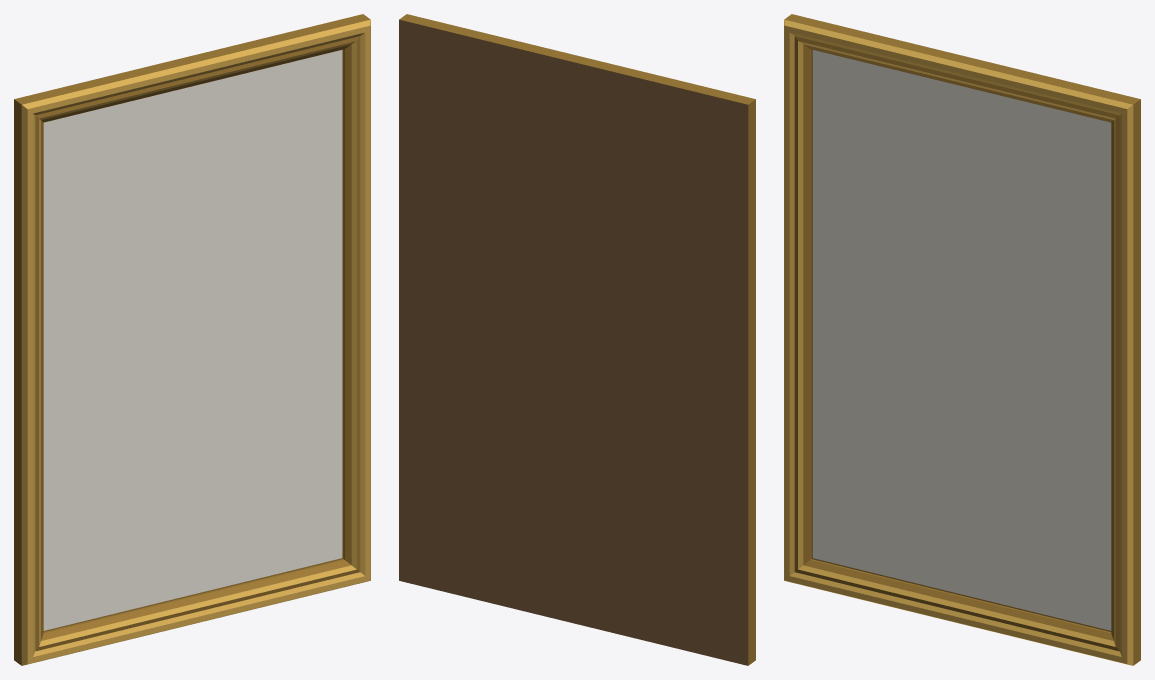
File: art_frame.glb
3 renders of one model, left to right at view 1: azimuth 30°, elevation 25°; view 2: azimuth 150°, elevation 25°; view 3: azimuth 330°, elevation 25°, orthographic.
Parts seen in each view (by area): view 1: ArtFace, Frame; view 2: Frame; view 3: ArtFace, Frame.
Boxes of the visible parts, bbox=[...] form: ArtFace: bbox=[43, 50, 342, 630]; Frame: bbox=[14, 14, 370, 665]; Frame: bbox=[399, 14, 755, 665]; ArtFace: bbox=[812, 50, 1111, 630]; Frame: bbox=[784, 14, 1140, 665].
Size of the model in its own units: 0.58 by 0.891 by 0.03.
Materials: 2 (1 with a texture image).
